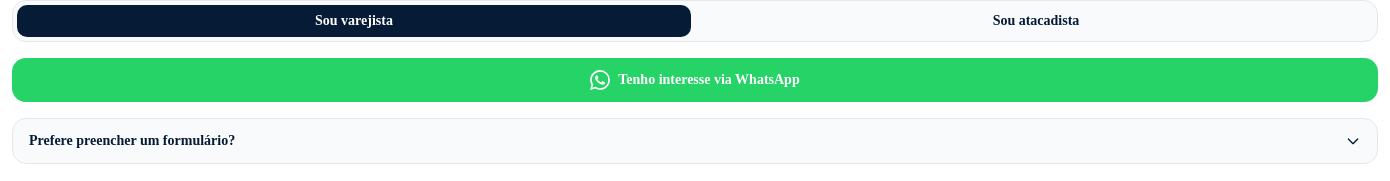
Test: ProductCTAs › exibição de botões por productType › ao clicar em "Sou atacadista" exibe botão atacado
Click the button with test id "btn-perfil-atacado" at point(1036, 21), box [699,5,1373,37]
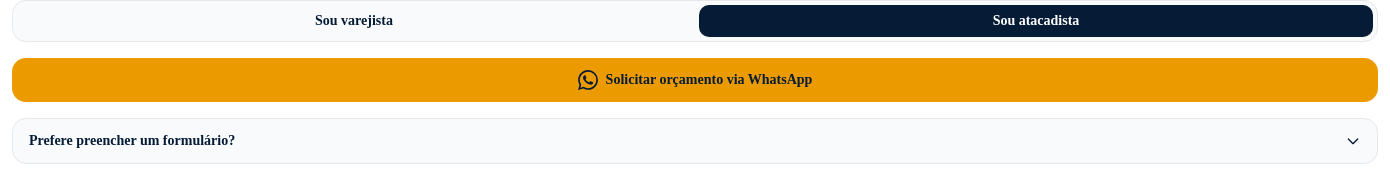
Check: the link with test id "btn-whatsapp-atacado" is shown, box [12,58,1378,102]
Check: the link with test id "btn-whatsapp-varejo" is gone
